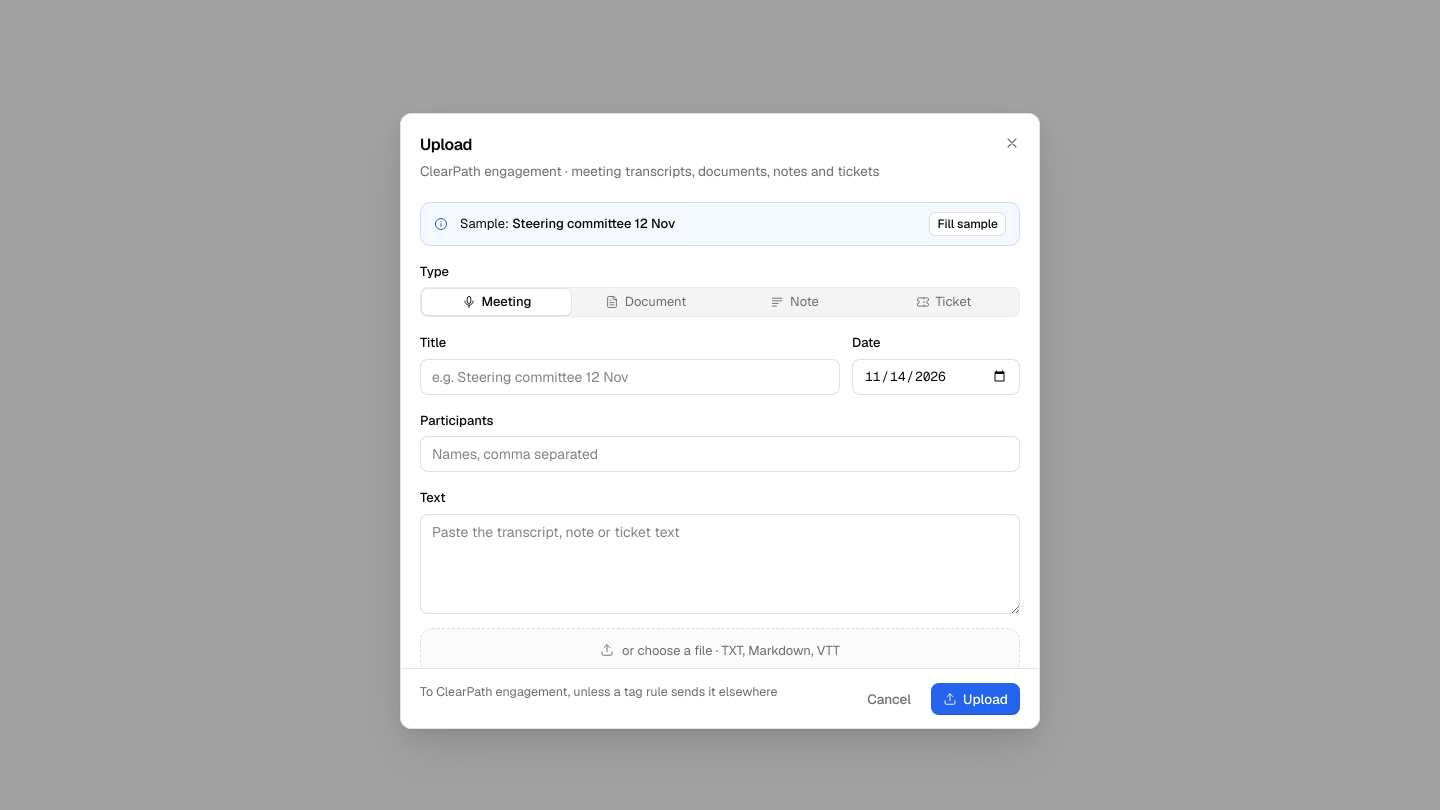
Test: UploadDialog › validation › wants a title and a text, and sends nothing without them
The width and height of the screenshot is (1440, 810).
Click the button "Upload": click(976, 699) [931,683,1020,715]
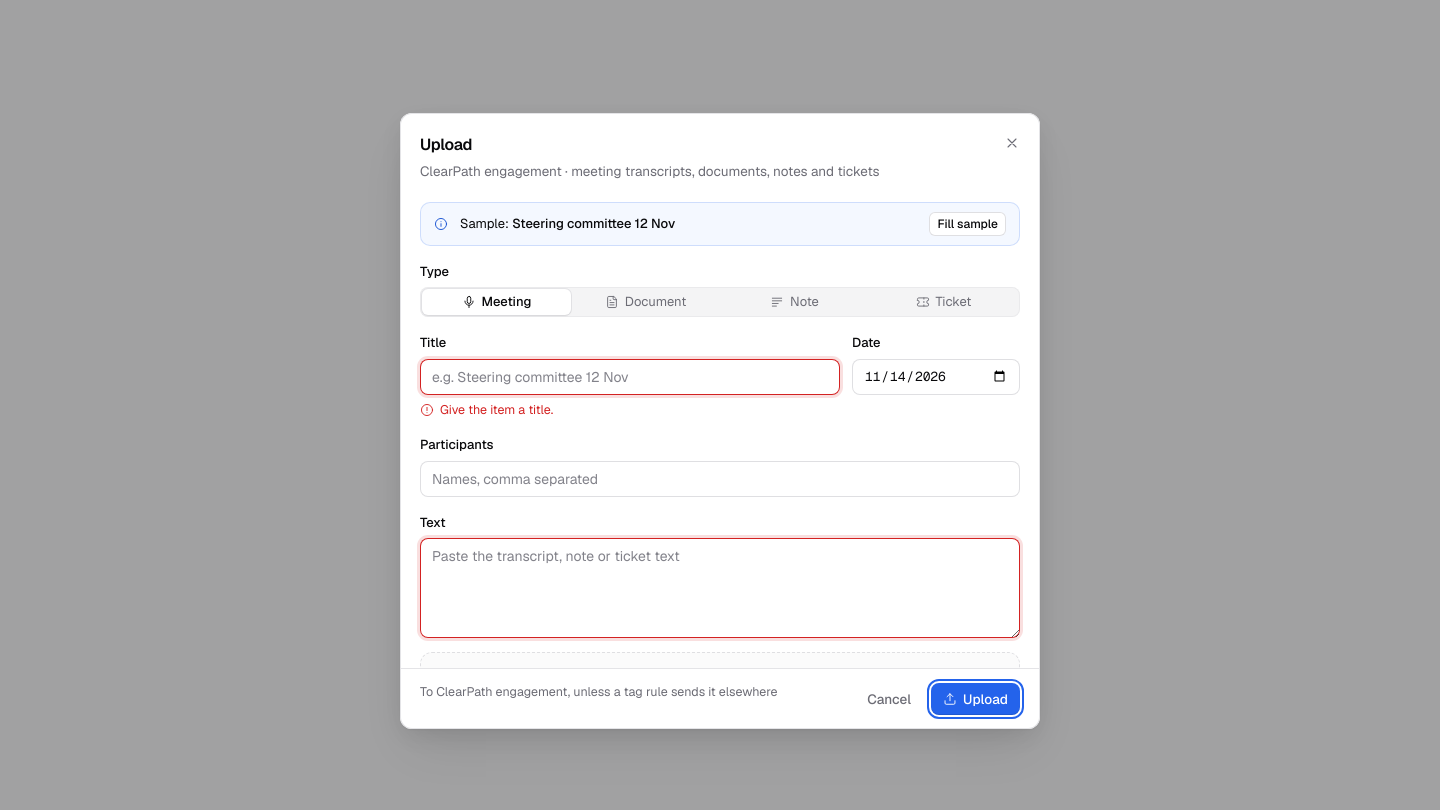
Check: the text "Give the item a title." is shown, box [420,401,553,418]
